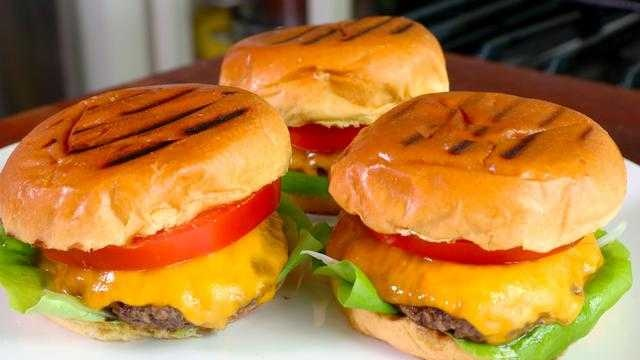hamburger: (1, 80, 291, 344), (335, 101, 624, 359), (212, 29, 453, 147)
